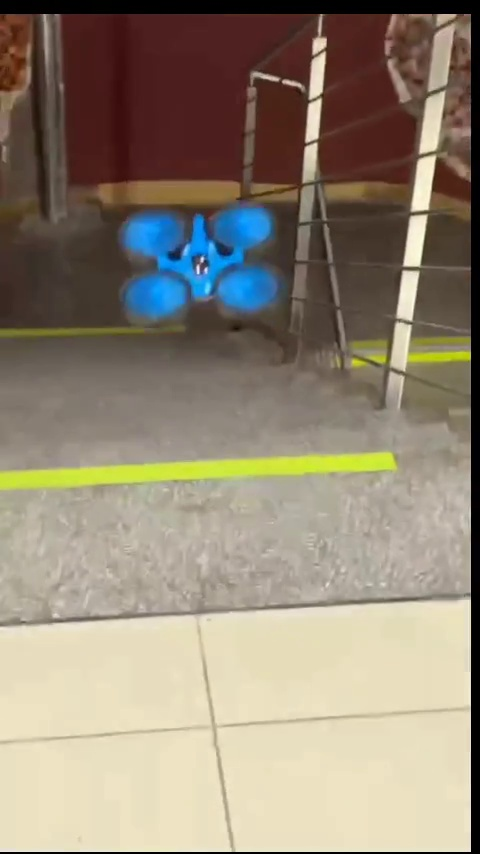drone: (111, 201, 293, 329)
